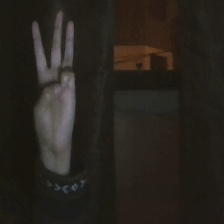W: (26, 1, 86, 156)
